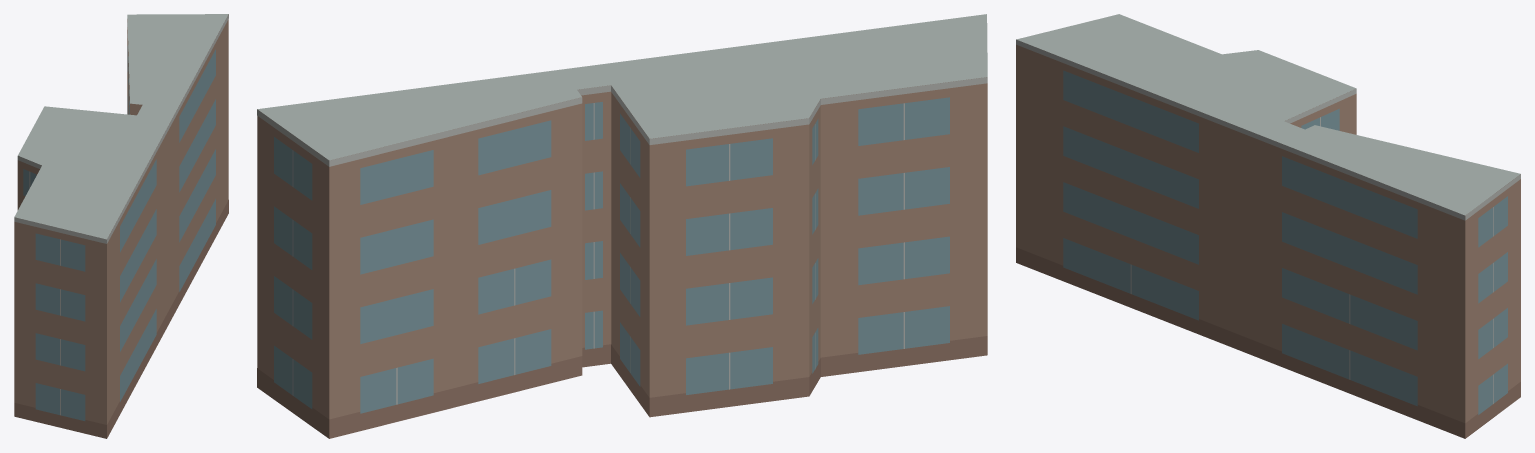
Rendered from survey-upis-32712720.glb.
3 renders of one model, left to right at view 1: azimuth 30°, elevation 25°; view 2: azimuth 150°, elevation 25°; view 3: azimuth 270°, elevation 25°, orthographic. The views are drawn at different scales.
Visible parts, largest first — view 1: survey-upis-32712720.tmp; view 2: survey-upis-32712720.tmp; view 3: survey-upis-32712720.tmp.
Boxes of the visible parts, bbox=[...] form: survey-upis-32712720.tmp: bbox=[14, 14, 228, 438]; survey-upis-32712720.tmp: bbox=[257, 14, 987, 438]; survey-upis-32712720.tmp: bbox=[1016, 14, 1520, 438].
Size of the model in its own units: 20.73 by 10.7 by 21.93.
